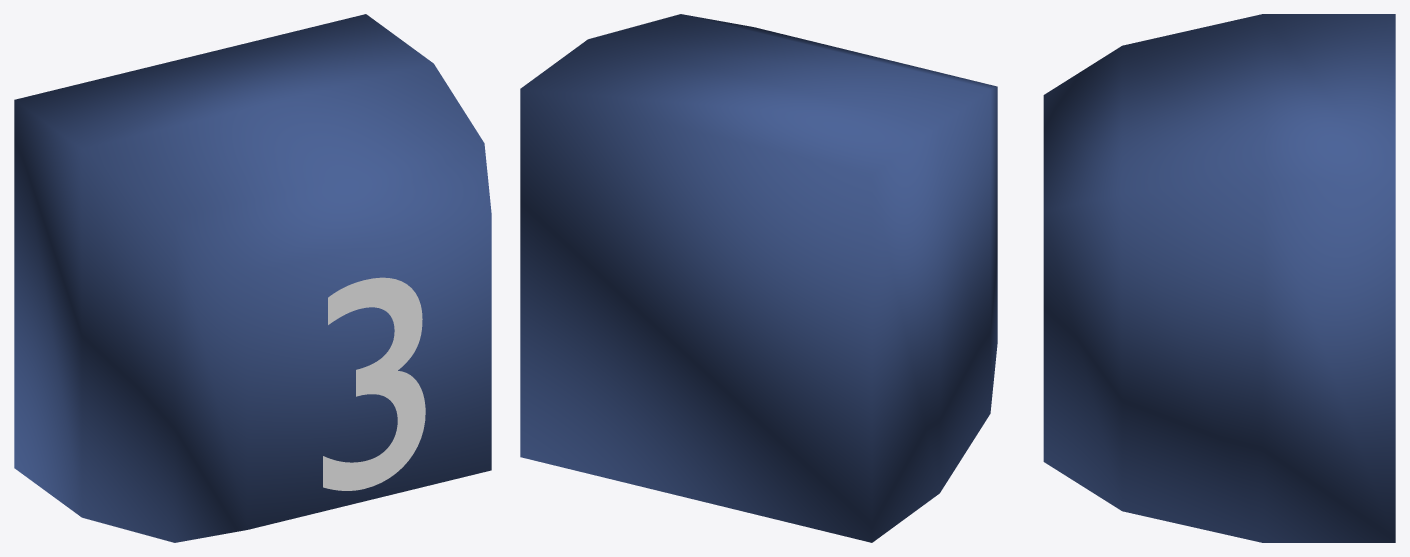
The model's file is lockbutton3.glb.
3 views of the same model, side by side, from view 1: azimuth 30°, elevation 25°; view 2: azimuth 150°, elevation 25°; view 3: azimuth 270°, elevation 25° (orthographic). The views are drawn at different scales.
Visible parts, largest first — view 1: Text.002; view 2: Text.002; view 3: Text.002.
Boxes of the visible parts, x1=… form: Text.002: x1=14, y1=14, x2=491, y2=542; Text.002: x1=520, y1=14, x2=997, y2=542; Text.002: x1=1043, y1=14, x2=1395, y2=542.
Bounding box in the file's own units: 0.0488 × 0.0488 × 0.0452.
